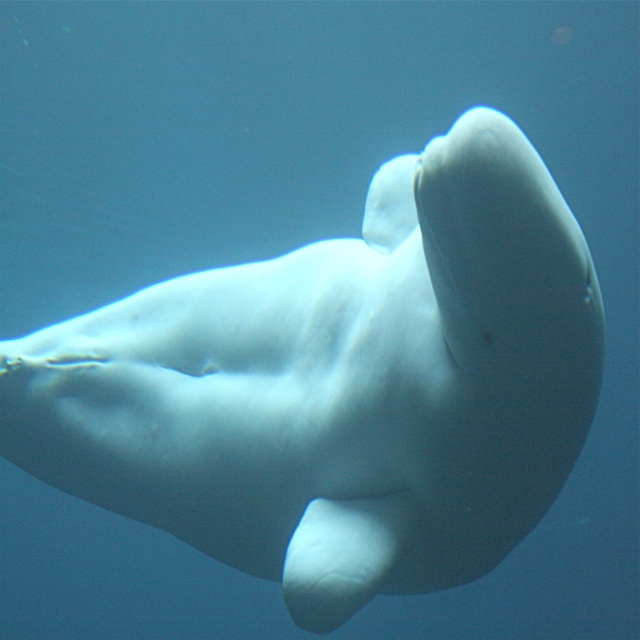Whale: (0, 104, 608, 635)
